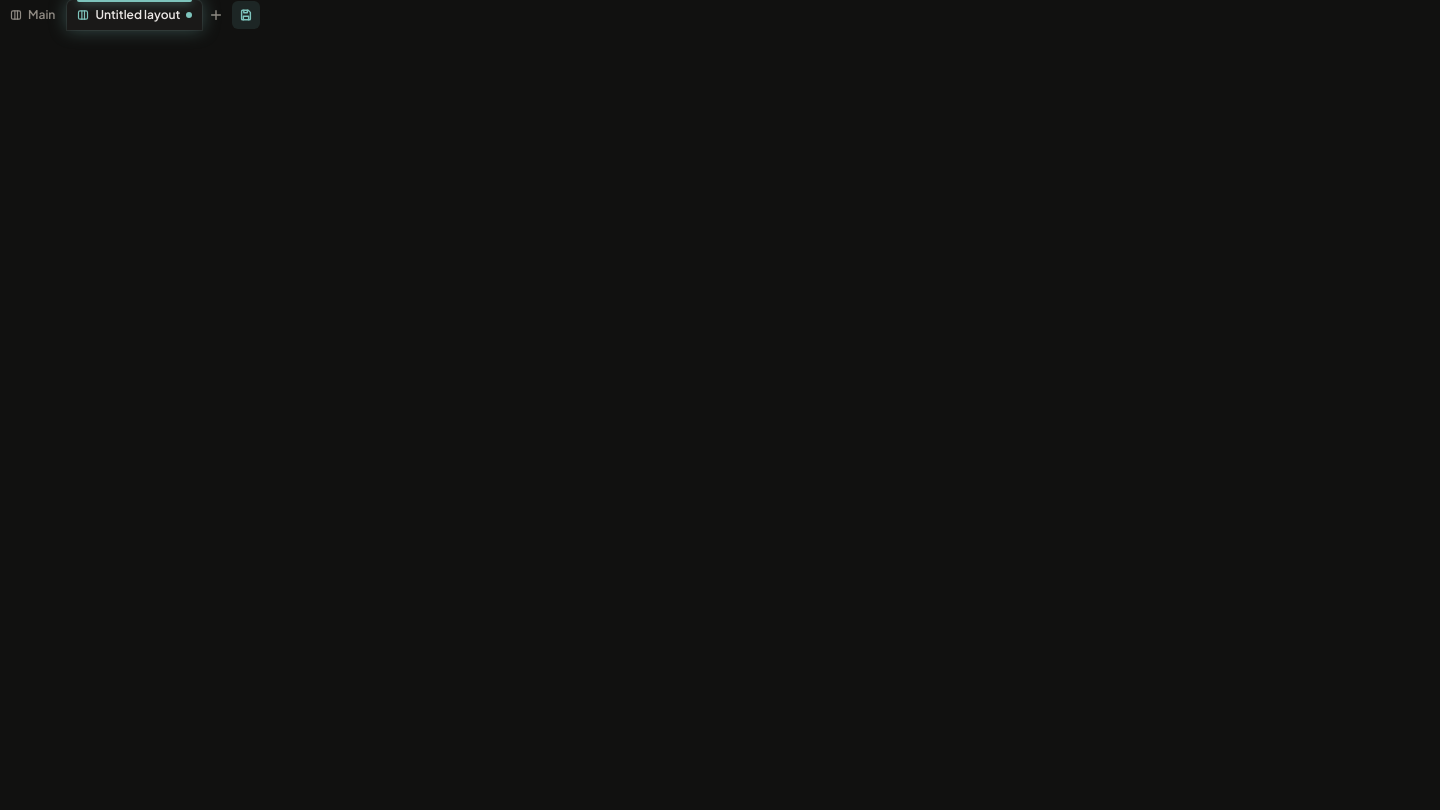
Test case: LayoutControls — tabs › a kept new layout from an older build: the open tab after the saved ones; Save asks its name
Click the button with test id "layout-save" at (246, 15), box [232,1,260,29]
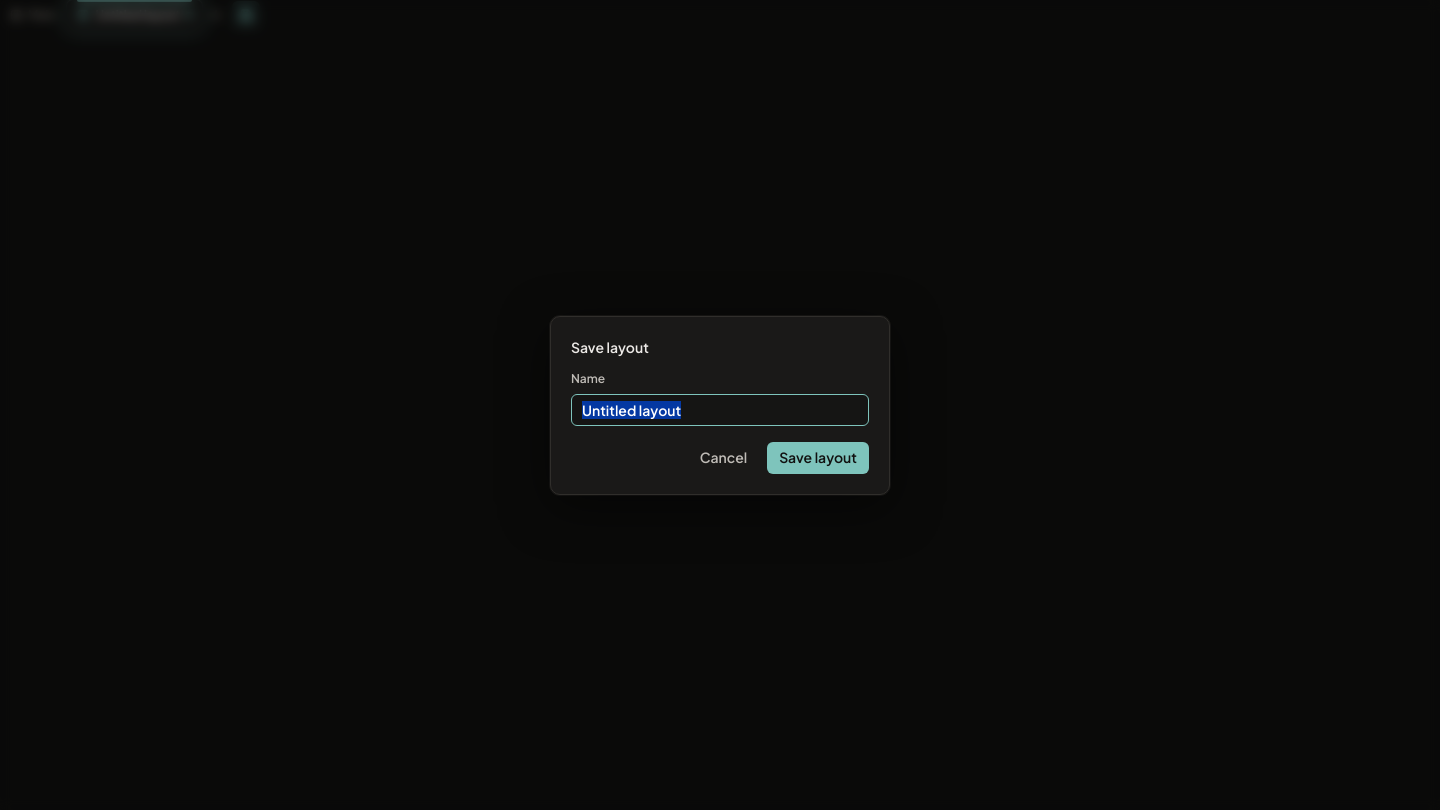
Expected: the field labelled "Name" holds "Untitled layout"
Replace the text in the field labelled "Name" with "Planning" at (720, 410), box [571,394,869,426]
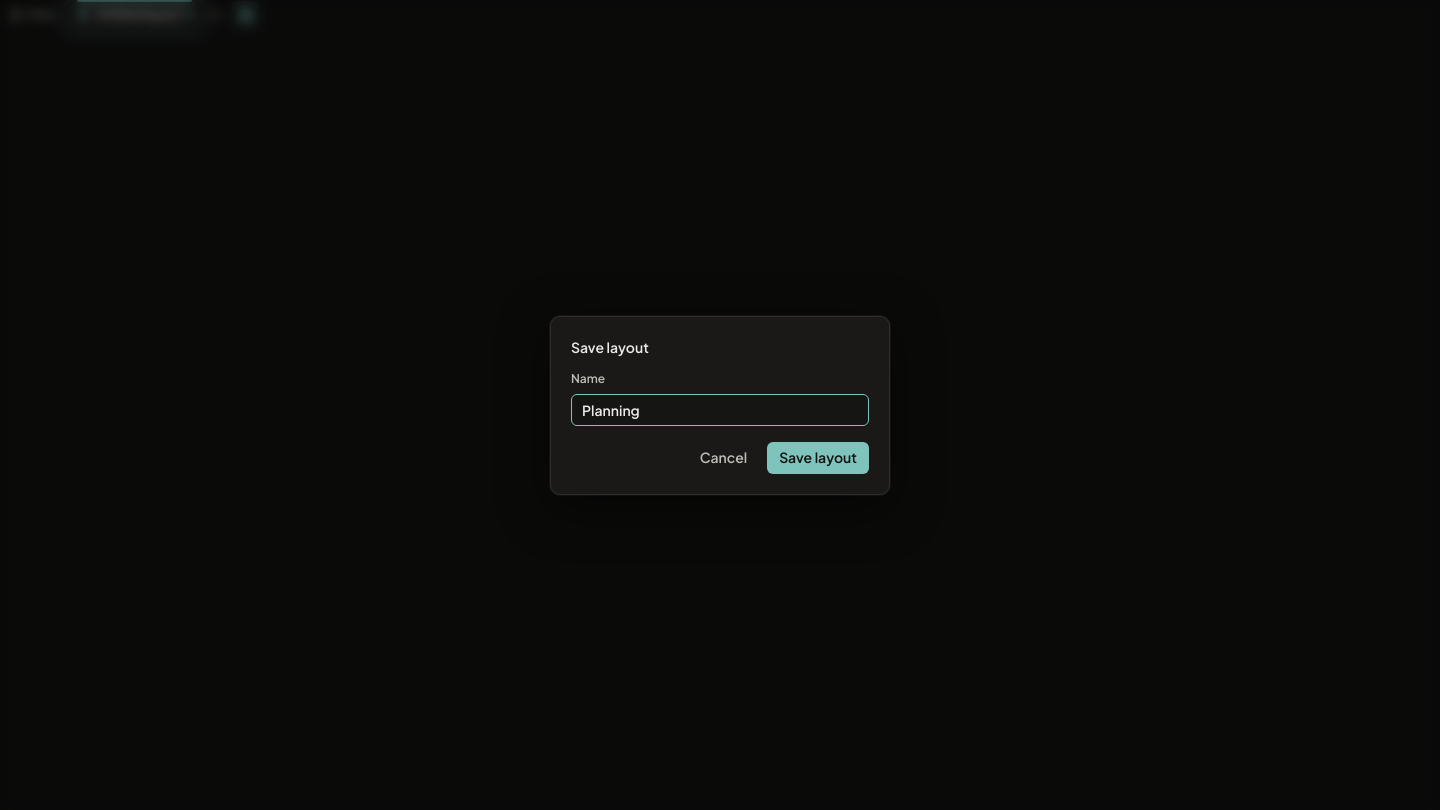
Click the button "Save layout" at (818, 458), box [767,442,869,474]
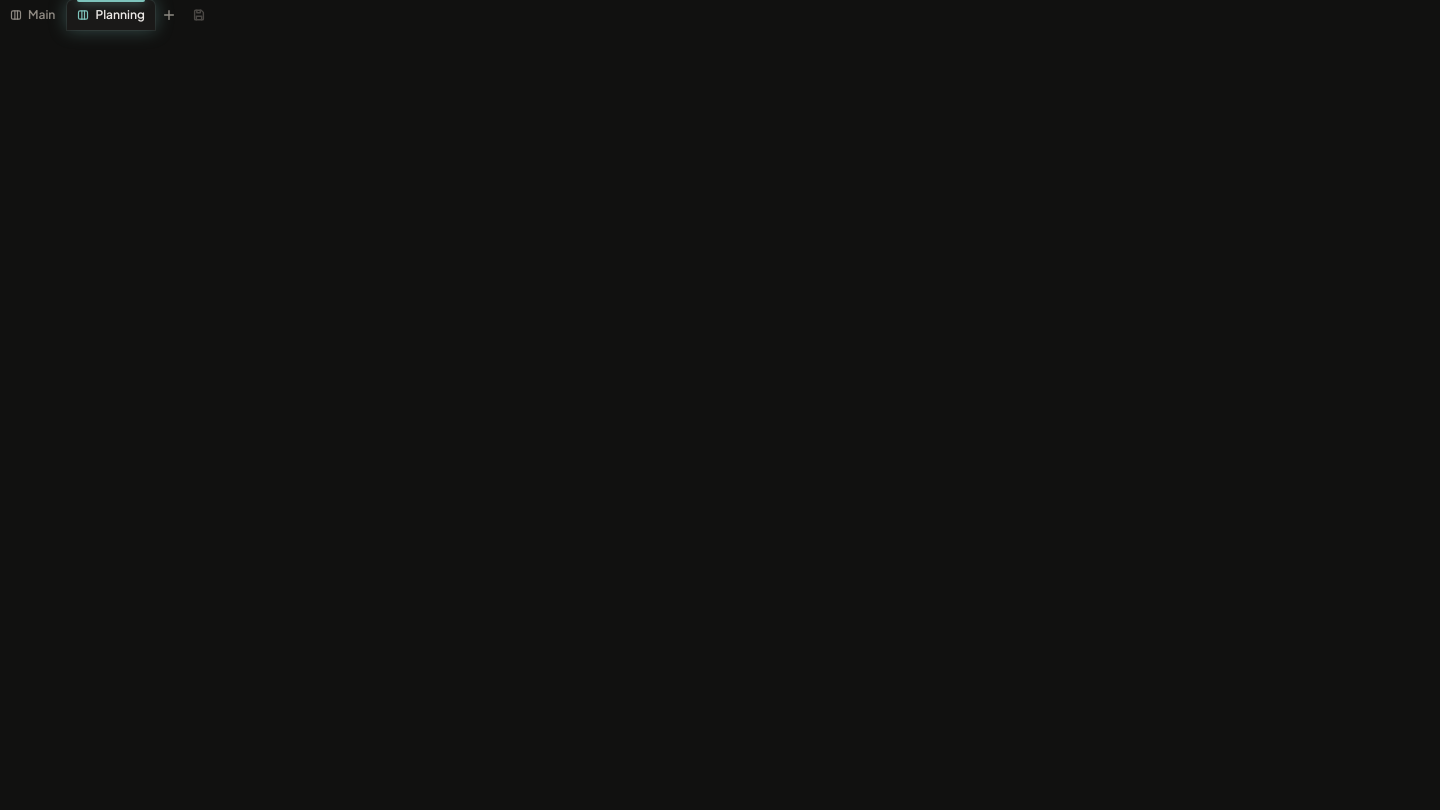
Expected: the text "Planning" is shown, [95,6,145,24]
